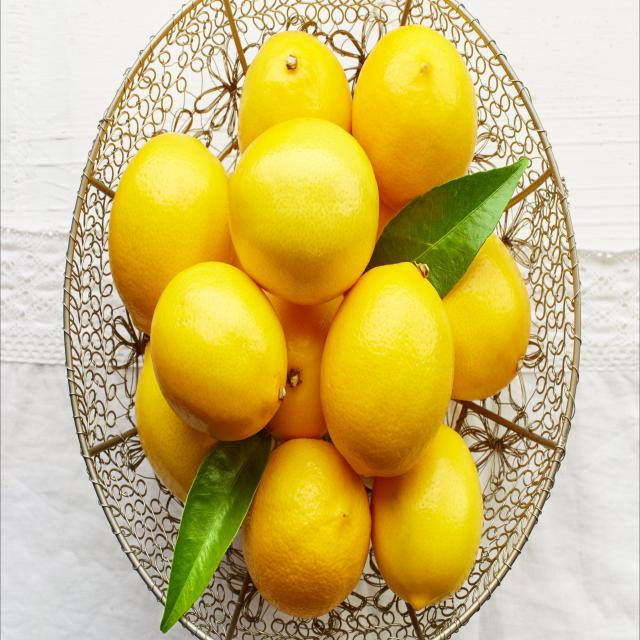lemon: (316, 255, 459, 484), (227, 116, 381, 309), (146, 256, 291, 446)
